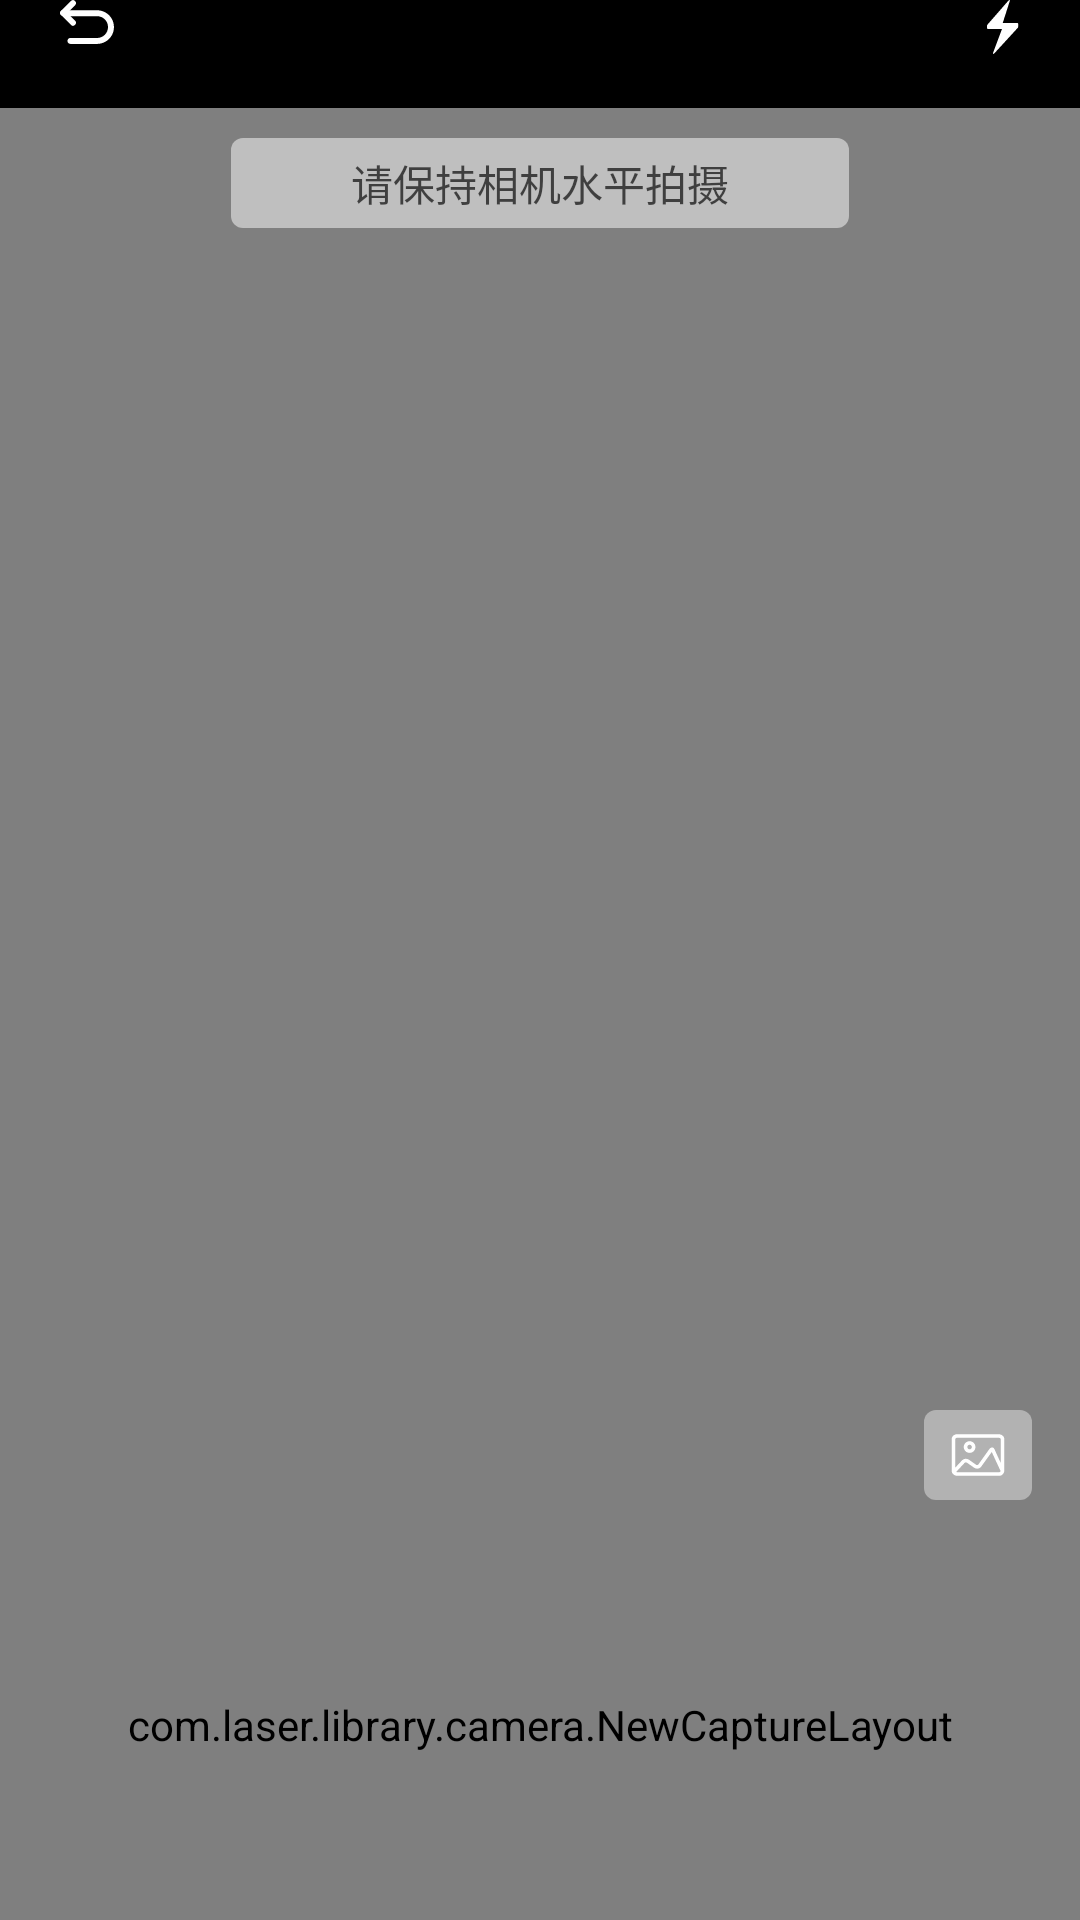

Named icons in this screenshot (1080×1920) and their centers, point (x, y):
back: point (87, 22)
flash on: point (1003, 27)
